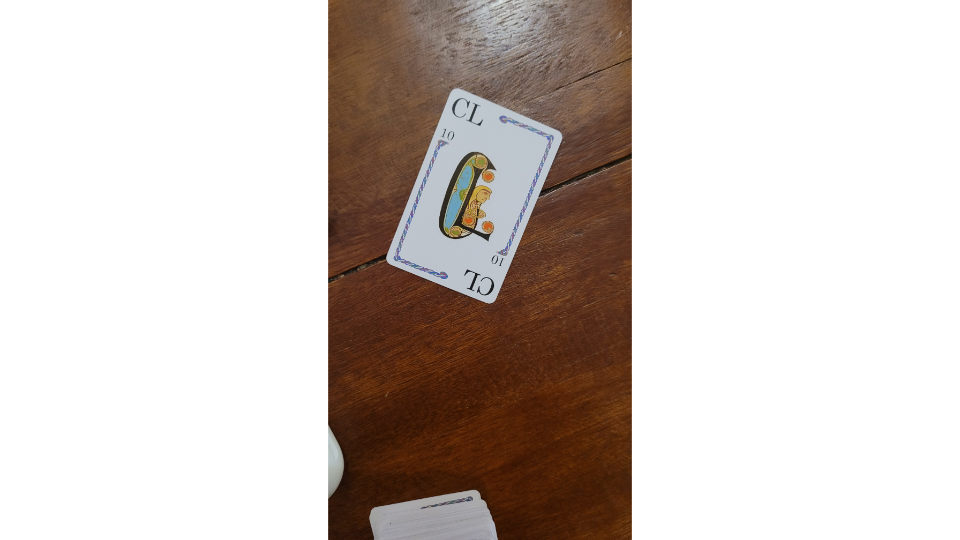CL: (384, 86, 565, 307)
